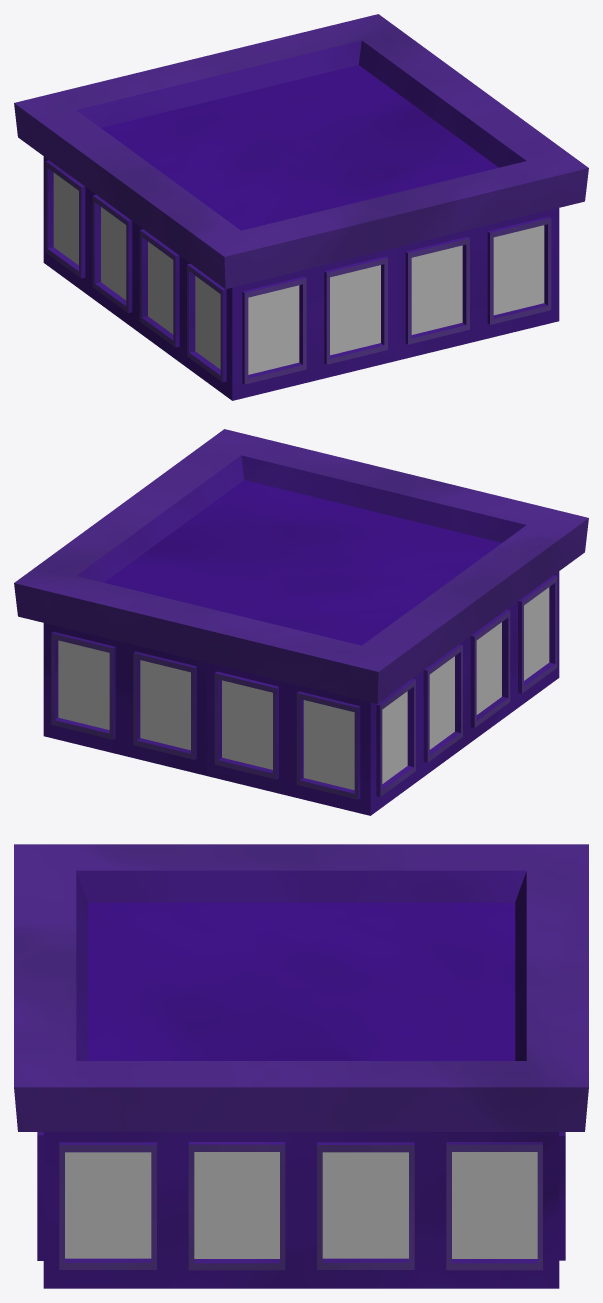
The model's file is SM_ModularTopBuilding1.fbx.
3 views of the same model, one above another, from view 1: azimuth 30°, elevation 25°; view 2: azimuth 150°, elevation 25°; view 3: azimuth 270°, elevation 25° (orthographic). The views are drawn at different scales.
Visible parts, largest first — view 1: TopBuilding1; view 2: TopBuilding1; view 3: TopBuilding1.
Boxes of the visible parts, x1,y1,x2,y2 form: TopBuilding1: (14,14,588,400); TopBuilding1: (14,429,588,815); TopBuilding1: (14,844,588,1288).
Bounding box in the file's own units: 11.15 × 4.58 × 11.15.
